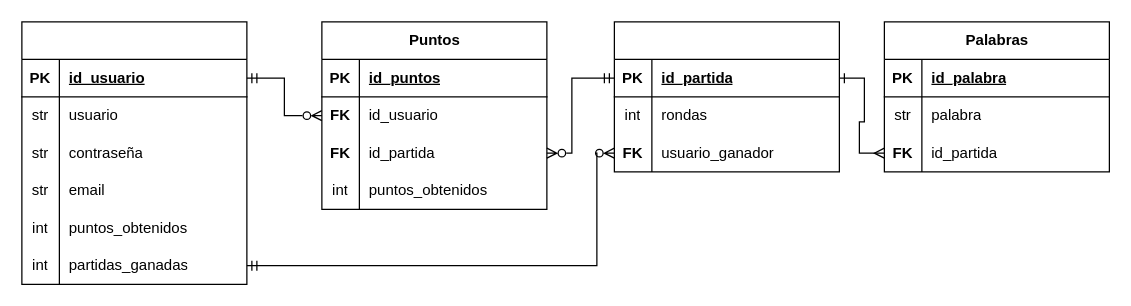
Image size: 1131x306. Some labels were removed from this diagram. The shapes that lost their labels are listed below. From the top down, each one's box as (x1, y1, x2, y2) in pixels, then its label:
(613, 21, 839, 172): Partidas
(21, 21, 247, 284): Usuarios
